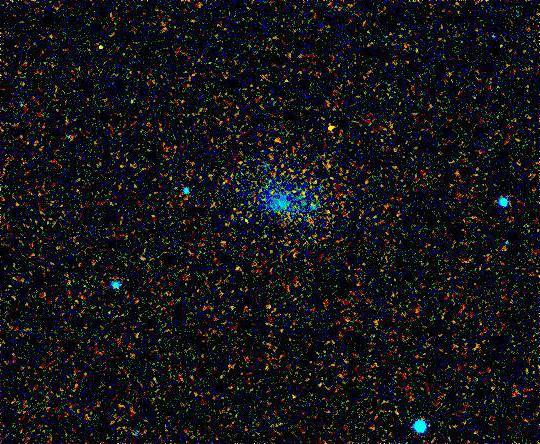star: (315, 114, 345, 144)
